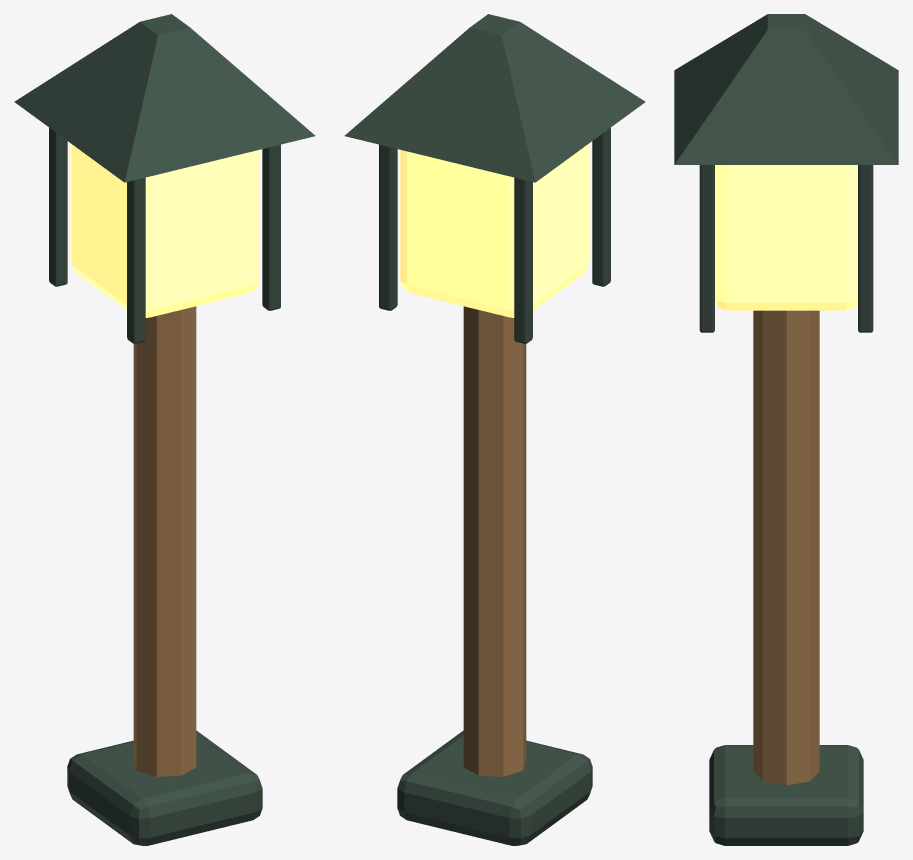
The model's file is garden-lantern.glb.
3 renders of one model, left to right at view 1: azimuth 30°, elevation 25°; view 2: azimuth 150°, elevation 25°; view 3: azimuth 270°, elevation 25°, orthographic.
Visible parts, largest first — view 1: garden-lantern-runtime; view 2: garden-lantern-runtime; view 3: garden-lantern-runtime.
Boxes of the visible parts, left/top/right/bottom form: garden-lantern-runtime: left=14, top=14, right=315, bottom=845; garden-lantern-runtime: left=344, top=14, right=645, bottom=845; garden-lantern-runtime: left=674, top=14, right=898, bottom=845.
Size of the model in its own units: 0.5091 by 2 by 0.5091.
